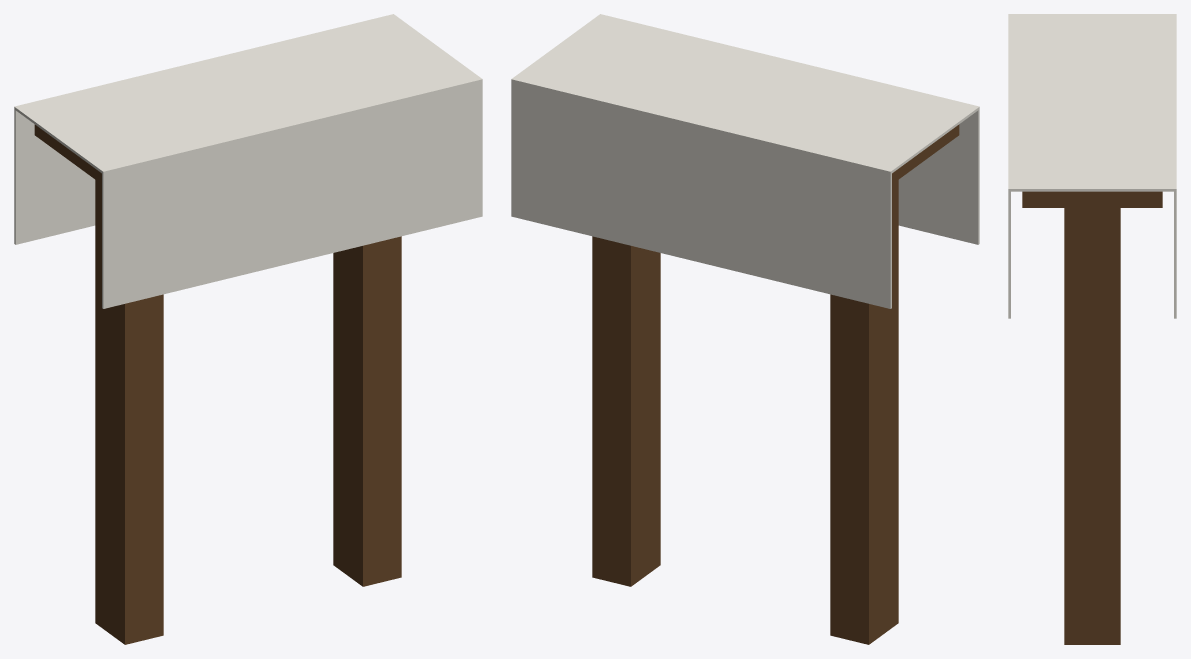
3 views of the same model, side by side, from view 1: azimuth 30°, elevation 25°; view 2: azimuth 150°, elevation 25°; view 3: azimuth 270°, elevation 25° (orthographic). The views are drawn at different scales.
Visible parts, largest first — view 1: parametric-variant-table-1st-pub-f5d27ecc450bcb756dd6; view 2: parametric-variant-table-1st-pub-f5d27ecc450bcb756dd6; view 3: parametric-variant-table-1st-pub-f5d27ecc450bcb756dd6.
Boxes of the visible parts, box(x1,y1,x2,y2) form: parametric-variant-table-1st-pub-f5d27ecc450bcb756dd6: box(14, 14, 482, 644); parametric-variant-table-1st-pub-f5d27ecc450bcb756dd6: box(511, 14, 979, 644); parametric-variant-table-1st-pub-f5d27ecc450bcb756dd6: box(1008, 14, 1176, 644).
Size of the model in its own units: 0.59 by 0.754 by 0.24.
